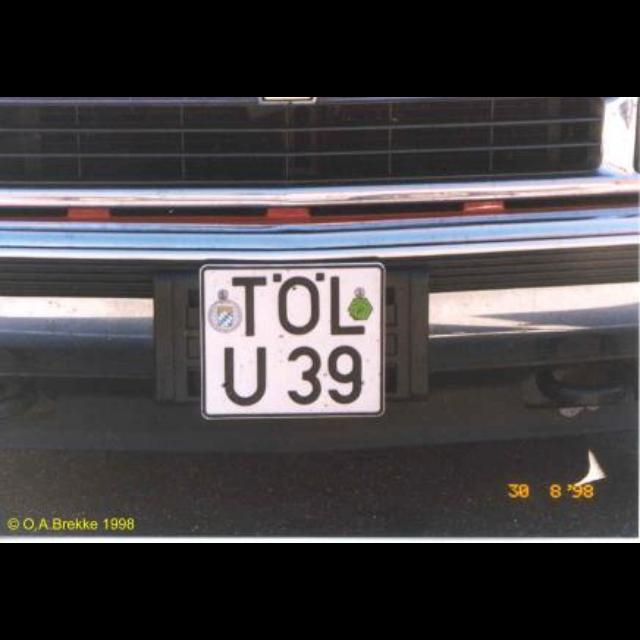d_license_plate: (200, 264, 382, 416)
